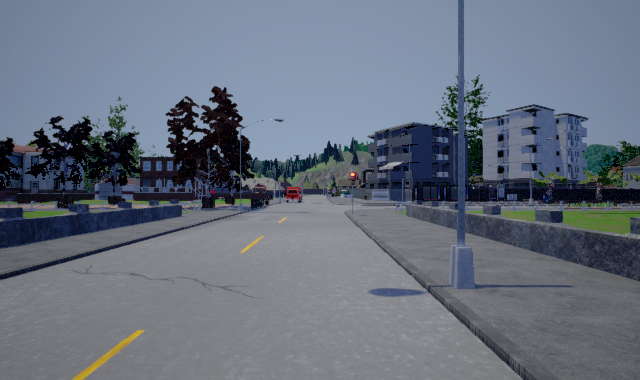traffic_light: (350, 172, 356, 188)
vehicle: (286, 185, 304, 203)
